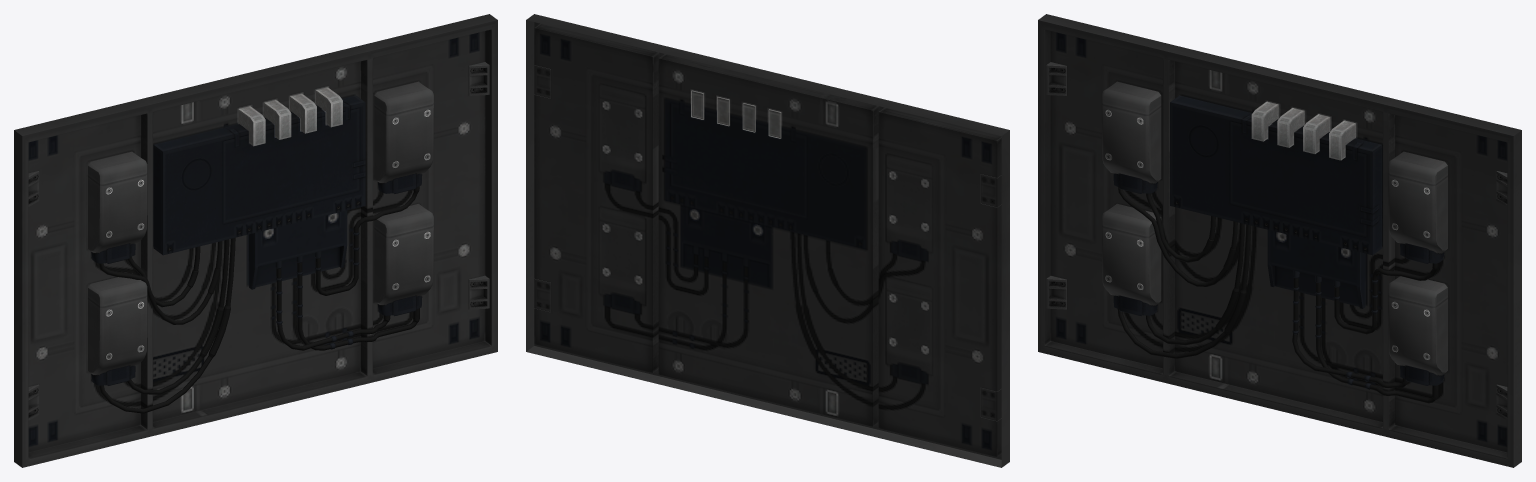
Rendered from Panel_C_1x1,5_2.FBX.
The picture shows the model from 3 angles, left to right: view 1: azimuth 30°, elevation 25°; view 2: azimuth 150°, elevation 25°; view 3: azimuth 330°, elevation 25°; orthographic projection.
Visible parts, largest first — view 1: Panel_C_1x1,5_2; view 2: Panel_C_1x1,5_2; view 3: Panel_C_1x1,5_2.
Part boxes in pixels (bbox=[...]): Panel_C_1x1,5_2: bbox=[14, 14, 497, 467]; Panel_C_1x1,5_2: bbox=[526, 14, 1009, 467]; Panel_C_1x1,5_2: bbox=[1038, 14, 1521, 467].
Bounding box in the file's own units: 150 × 100 × 9.35.
